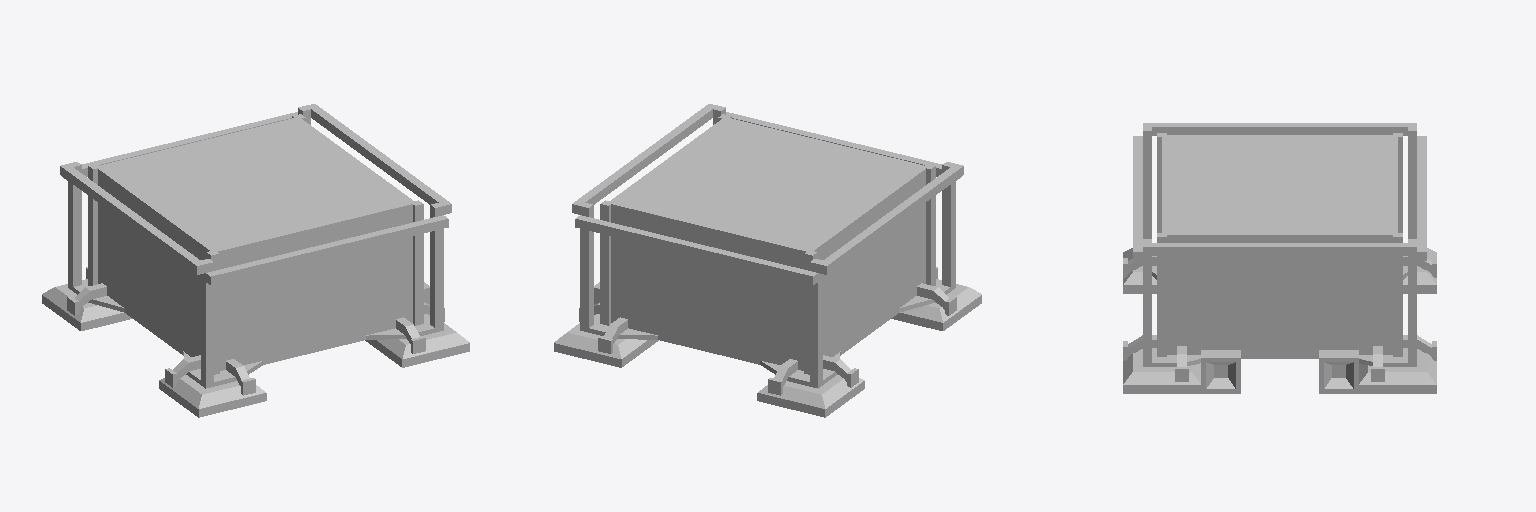
Rendered from assemfac.obj.
3 views of the same model, side by side, from view 1: azimuth 30°, elevation 25°; view 2: azimuth 150°, elevation 25°; view 3: azimuth 270°, elevation 25° (orthographic).
Visible parts, largest first — view 1: Factory; view 2: Factory; view 3: Factory.
Part boxes in pixels (x1,y1,x2,y2): Factory: (42,104,469,417); Factory: (554,104,981,417); Factory: (1123,123,1436,393).
Bounding box in the file's own units: 8 × 4 × 8.